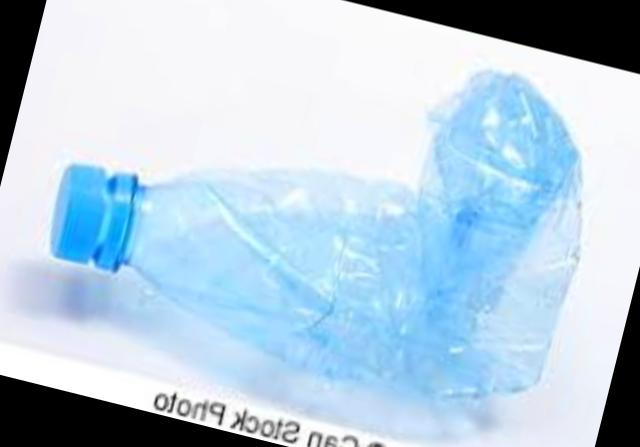plastic: (56, 68, 585, 392)
